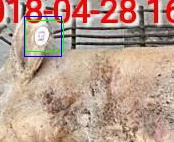text: (25, 20, 63, 51)
